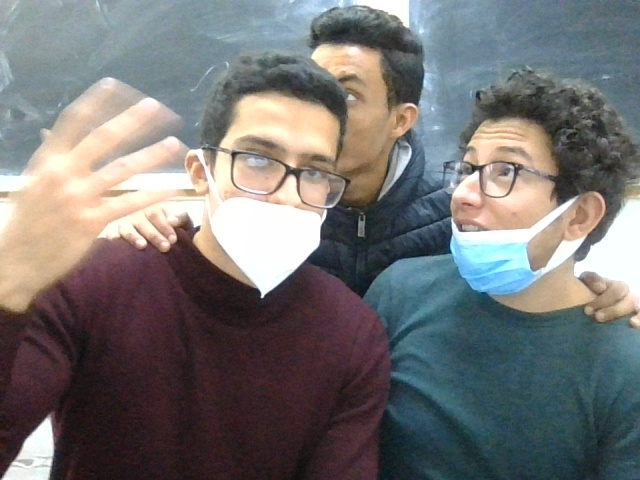mask_weared_incorrect: (444, 71, 628, 306), (190, 46, 341, 288)
